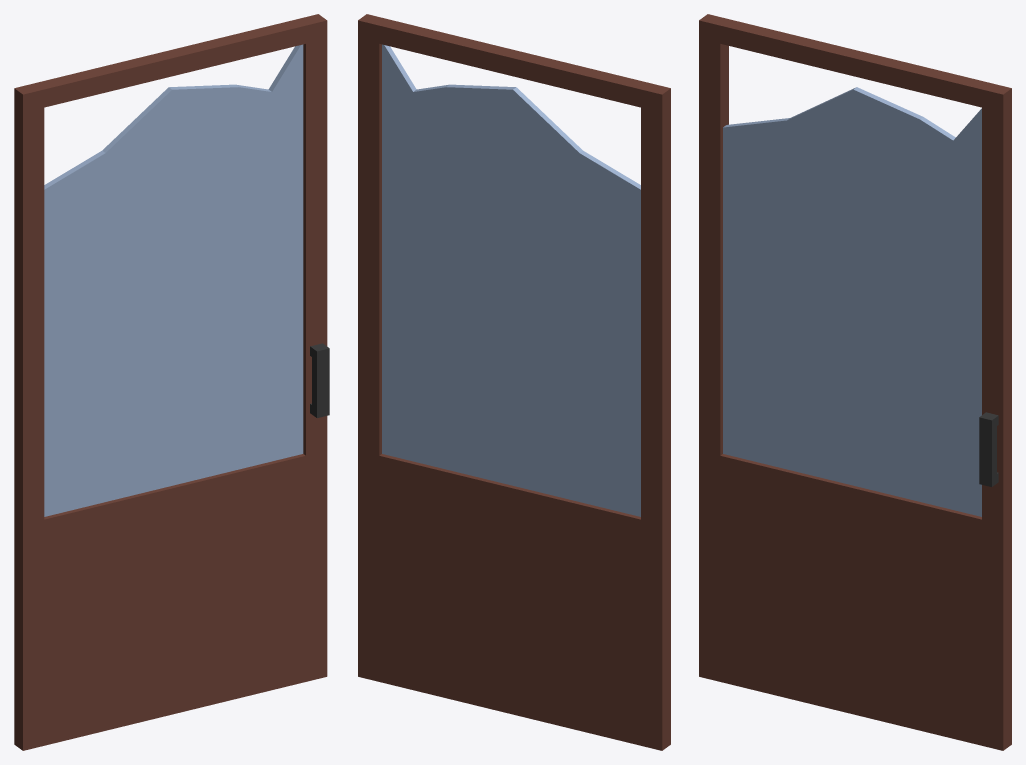
Rendered from House_07_Door01.glb.
The picture shows the model from 3 angles, left to right: view 1: azimuth 30°, elevation 25°; view 2: azimuth 150°, elevation 25°; view 3: azimuth 330°, elevation 25°; orthographic projection.
Parts seen in each view (by area): view 1: House_07_Door01; view 2: House_07_Door01; view 3: House_07_Door01.
Boxes of the visible parts, left/top/right/bottom form: House_07_Door01: left=14, top=14, right=329, bottom=750; House_07_Door01: left=358, top=14, right=670, bottom=750; House_07_Door01: left=699, top=14, right=1011, bottom=750.
Bounding box in the file's own units: 1 × 2.06 × 0.0891.
2 materials, 2 textured.
